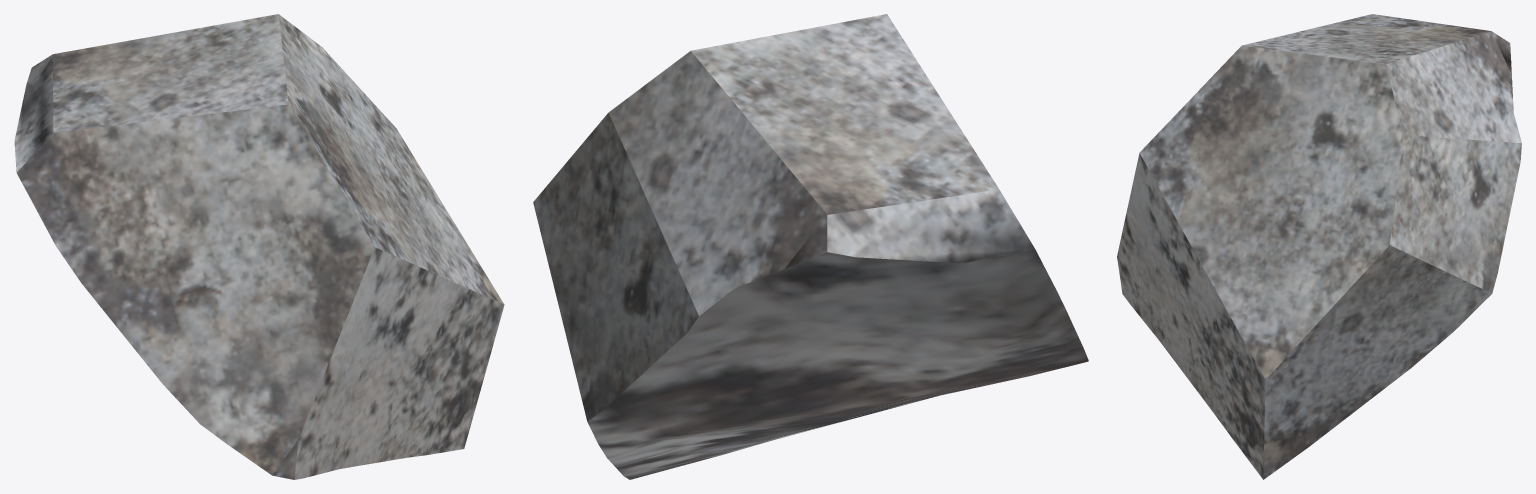
The model's file is Asteroid_Large_001_02_005_03_011.fbx.
3 renders of one model, left to right at view 1: azimuth 30°, elevation 25°; view 2: azimuth 150°, elevation 25°; view 3: azimuth 270°, elevation 25°, orthographic. The views are drawn at different scales.
Visible parts, largest first — view 1: Asteroid_Large_001_02_005_03_011; view 2: Asteroid_Large_001_02_005_03_011; view 3: Asteroid_Large_001_02_005_03_011.
Part boxes in pixels (box(x1,y1,x2,y2)): Asteroid_Large_001_02_005_03_011: box(14, 14, 504, 479); Asteroid_Large_001_02_005_03_011: box(533, 14, 1088, 479); Asteroid_Large_001_02_005_03_011: box(1117, 14, 1521, 479).
Size of the model in its own units: 7.49 by 6.98 by 7.01.
